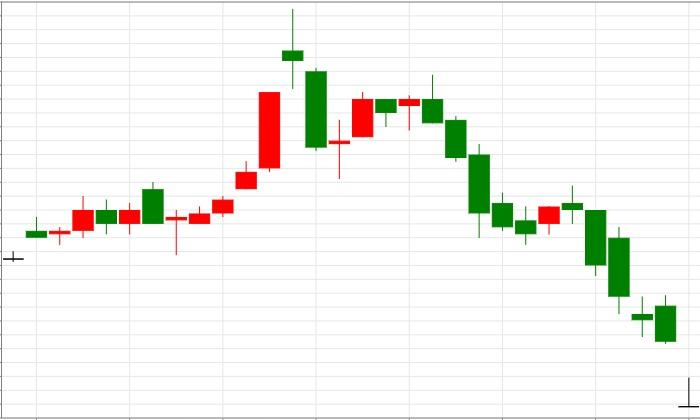three_black_crows_fall: (328, 74, 491, 238)
